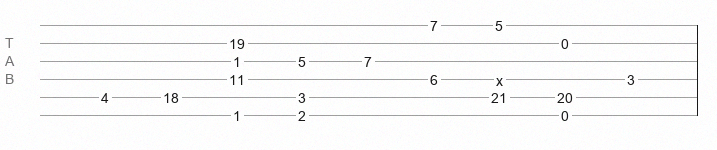0: (561, 36, 569, 46), (561, 108, 569, 118)
1: (233, 54, 241, 64), (233, 108, 241, 118)
11: (229, 72, 245, 82)
18: (163, 90, 179, 100)
19: (229, 36, 245, 46)
2: (298, 108, 306, 118)
20: (557, 90, 573, 100)
21: (491, 90, 507, 100)
3: (298, 90, 306, 100), (627, 72, 635, 82)
4: (101, 90, 109, 100)
5: (298, 54, 306, 64), (495, 18, 503, 28)
6: (430, 72, 438, 82)
7: (364, 54, 372, 64), (430, 18, 438, 28)
x: (496, 73, 503, 81)
